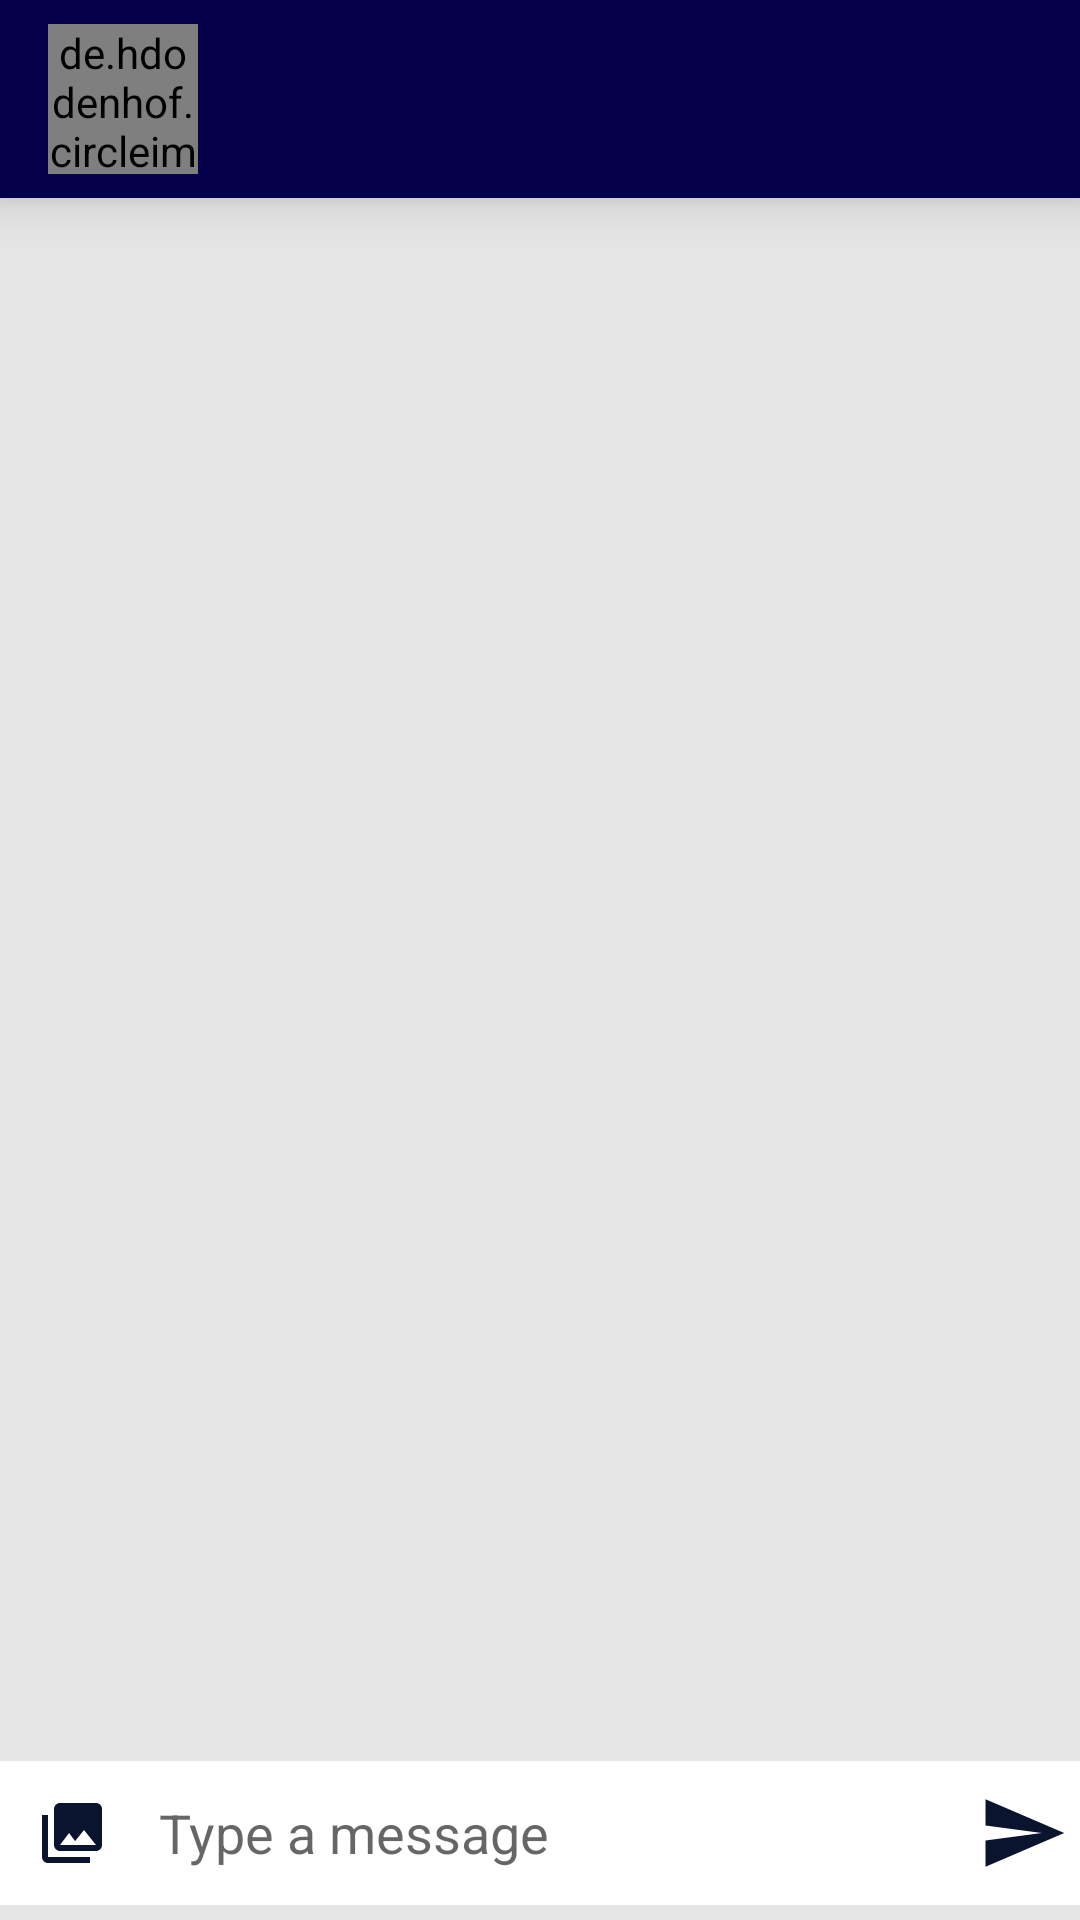

Locate icon controls on the screen. Image size 1080 × 1920, boxes as (x1, y1, x2, y2).
collections: (42, 1803, 102, 1863)
send: (985, 1799, 1064, 1867)
